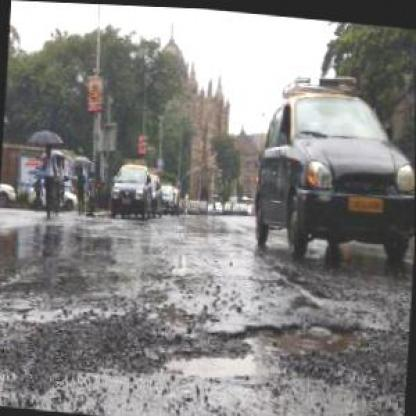pothole: (233, 309, 365, 359), (160, 334, 262, 383)
